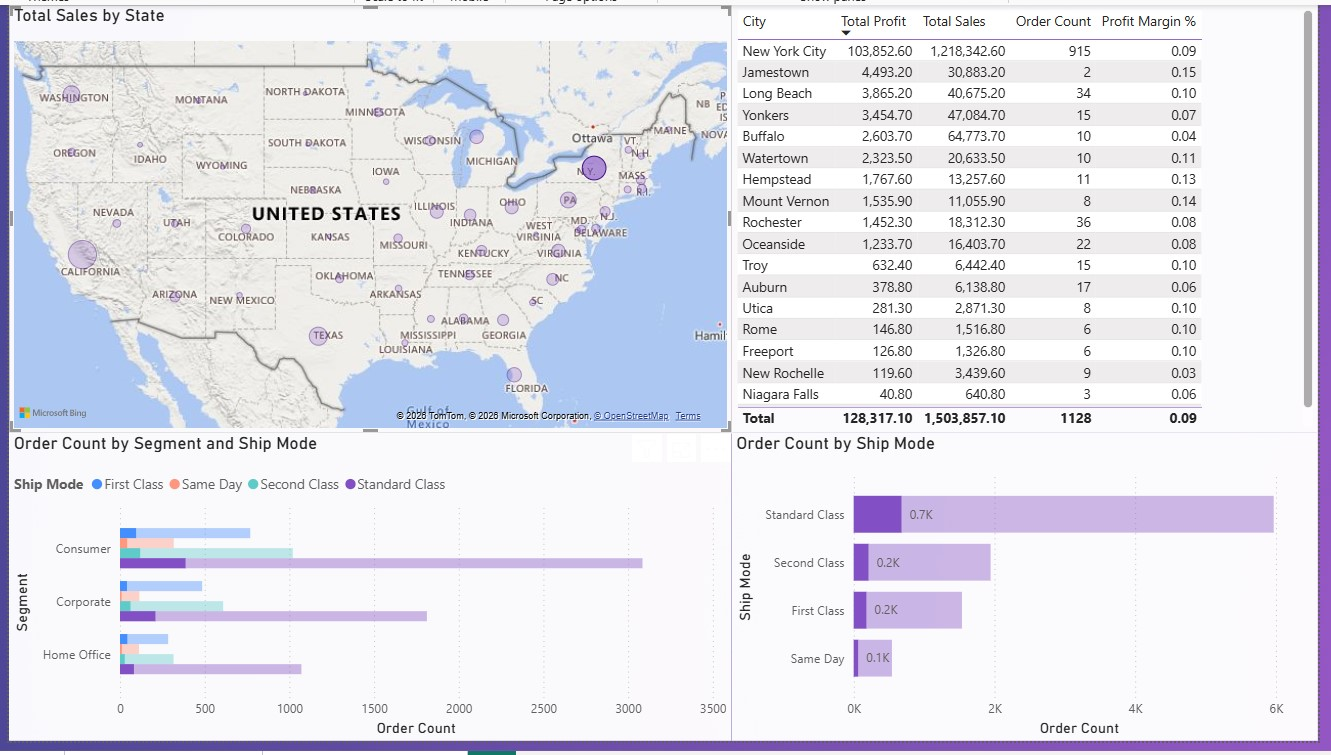

Layout of this report page (visuals, bound fields, positions):
{"tool":"powerbi","page":{"name":"Fulfillment_Geography","canvas":[1280,720],"ordinal":2},"visuals":[{"type":"map","title":"Total Sales by State","fields":{"Category":["Orders.State"],"Size":["Orders.Total Sales"]},"box":[0,0,706.8,418.2],"z":0},{"type":"clusteredBarChart","fields":{"Category":["Orders.Ship Mode"],"Y":["Orders.Order Count"]},"box":[706.7,418.5,573.6,301.9],"z":1000},{"type":"tableEx","fields":{"Values":["Orders.City","Orders.Total Profit","Orders.Total Sales","Orders.Order Count","Orders.Profit Margin %"]},"box":[706.7,0,573.6,418.5],"z":2000},{"type":"clusteredBarChart","fields":{"Category":["Orders.Segment"],"Y":["Orders.Order Count"],"Series":["Orders.Ship Mode"]},"box":[0,418.5,706.7,301.9],"z":2001}]}

Visuals, with their boxes in screenshot pixels (x1, y1, x2, y2), scaled from the page's 1280x720 canvas onto the 1331x755 screenshot:
"Total Sales by State" map: box(0, 0, 735, 439)
clusteredBarChart - Orders.Ship Mode x Orders.Order Count: box(735, 439, 1330, 754)
tableEx - Orders.City x Orders.Total Profit: box(735, 0, 1330, 439)
clusteredBarChart - Orders.Segment x Orders.Order Count: box(0, 439, 735, 754)
